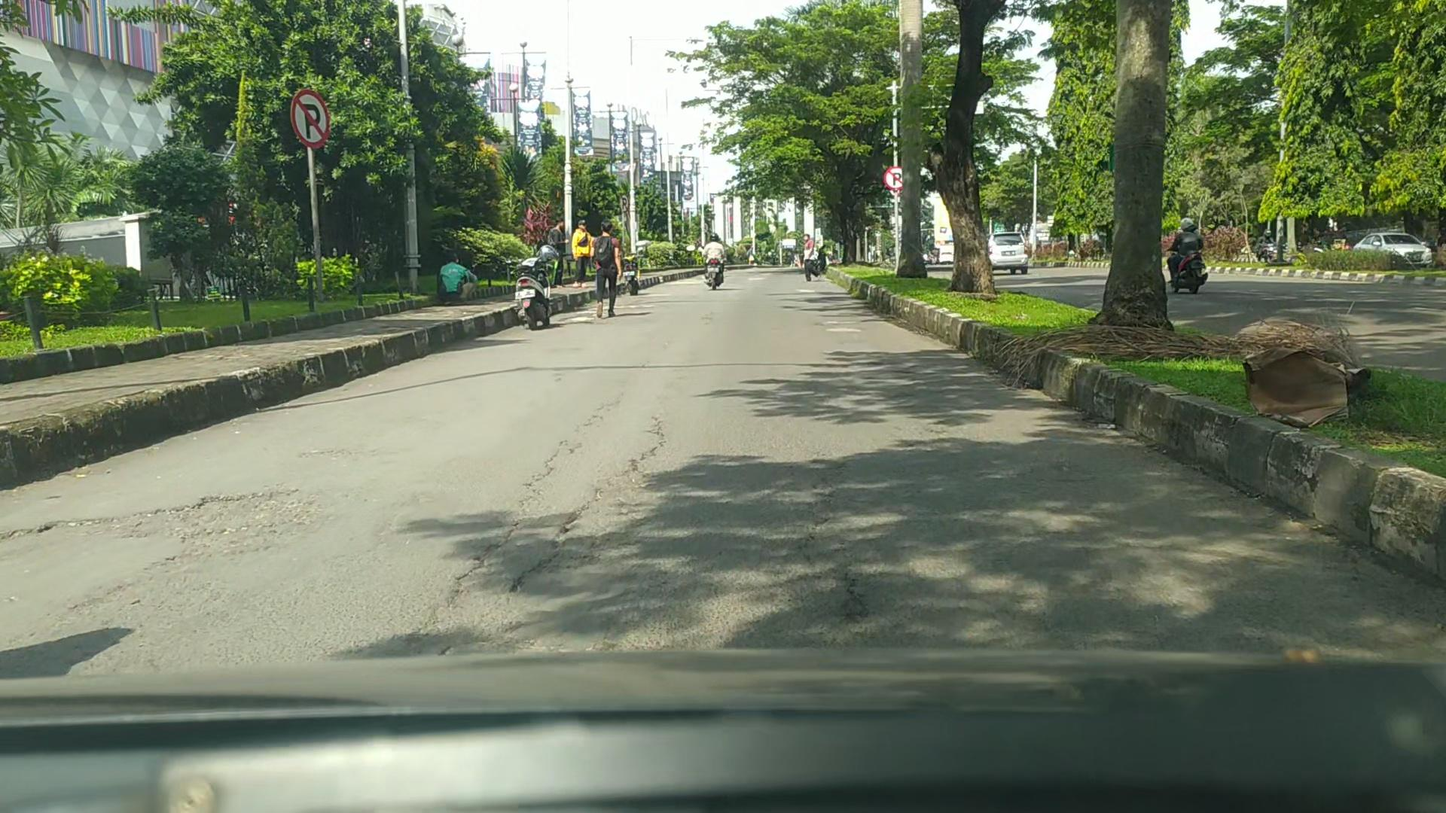pothole: (0, 488, 329, 574)
